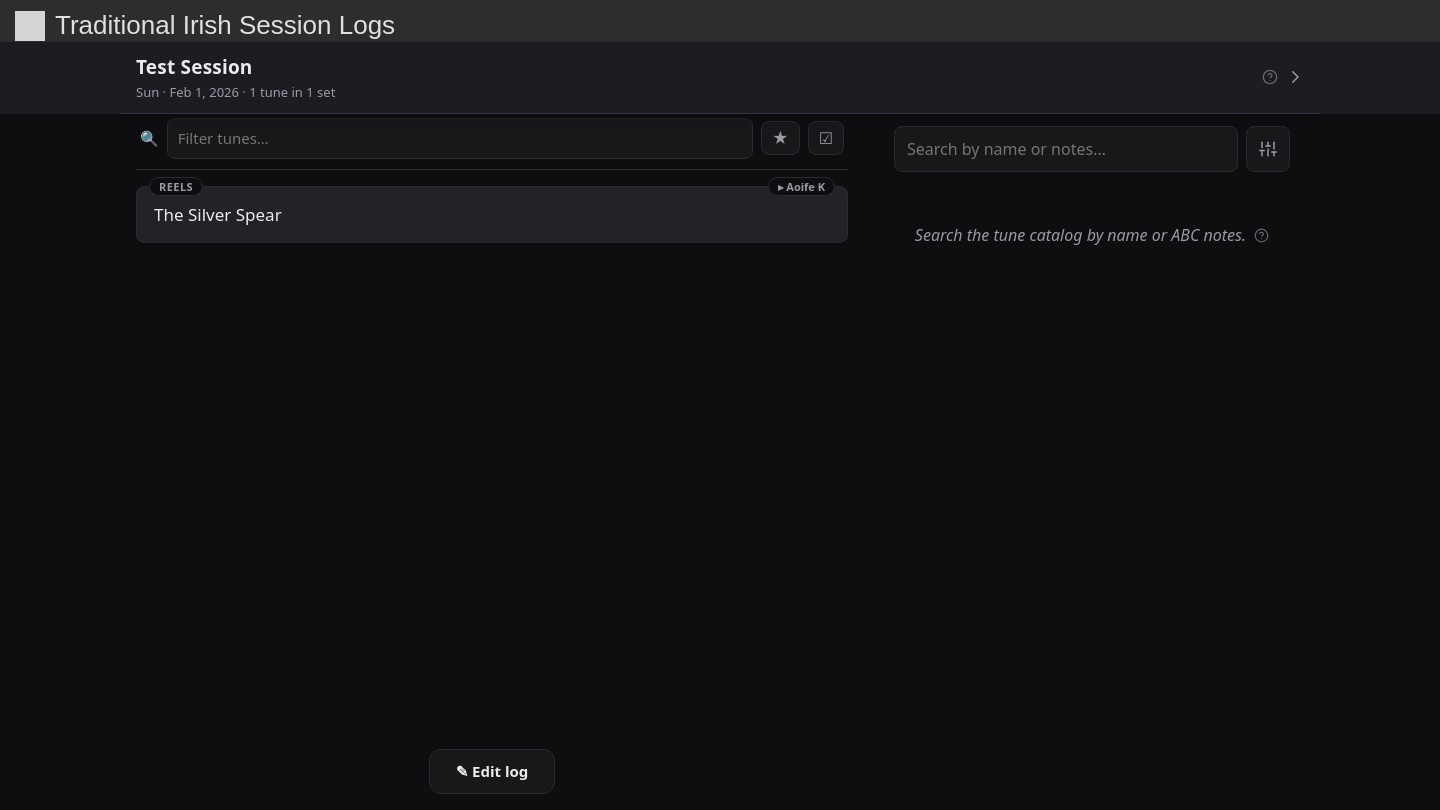
Test: header honours the per-session people flags (spec 039) › shows attendance and starters when both flags are on
Expected: the number of buttons with class "tune-row" is 1, left=154, top=203, right=282, bottom=226
Step 1. Click the button with class "topbar-row" → (194, 67), box left=136, top=54, right=1304, bottom=101
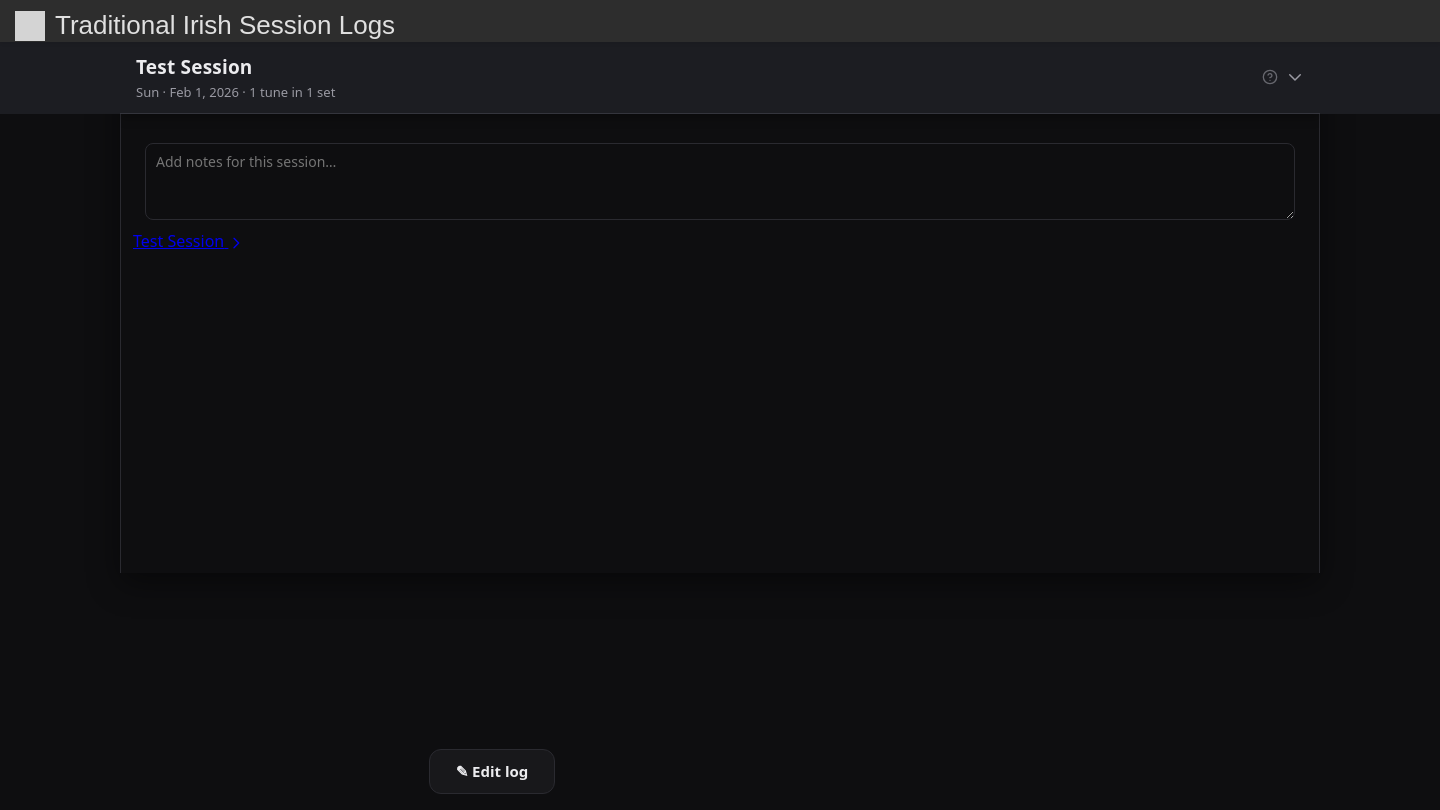
Expected: the element with class "kit-field" is shown, left=133, top=131, right=350, bottom=153
